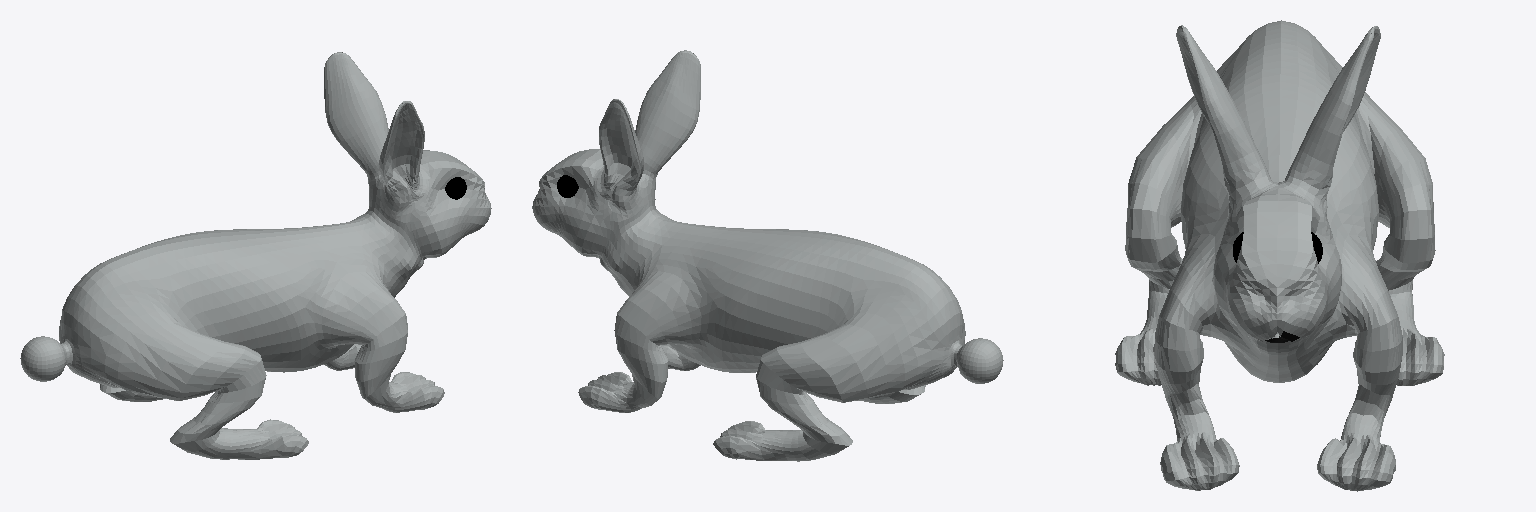
URDF robot description (object):
<?xml version="1.0"?>
<robot name="object">
  <link name="base_link"> <!-- required name-->
    <inertial>
      <origin xyz="0 0 0" /> 
      <mass value="1.0" />
      <inertia  ixx="1.0" ixy="0.0"  ixz="0.0"  iyy="1.0"  iyz="0.0"  izz="100.0" />
    </inertial>
    <visual>
      <origin xyz="0 0 0"/>
      <geometry>
        <mesh filename="package://animals_description/meshes/rabbit1.dae"/>
      </geometry>
    </visual>
    <collision>
      <origin xyz="0 0 0"/>
      <geometry>
        <mesh filename="package://animals_description/meshes/rabbit1.dae"/>
      </geometry>
    </collision>
  </link>
</robot>

--- Render facts (derived) ---
Views: 3 orthographic renders of the robot side by side, from view 1: azimuth 30°, elevation 25°; view 2: azimuth 150°, elevation 25°; view 3: azimuth 270°, elevation 25°.
Robot: object — 1 links, 0 joints (none); root link base_link; default pose: every joint at zero.
Visible links, largest first — view 1: base_link; view 2: base_link; view 3: base_link.
Boxes of the visible links, x1,y1,x2,y2 form: base_link: [20, 52, 491, 459]; base_link: [532, 50, 1003, 461]; base_link: [1115, 20, 1444, 491].
Size in the robot's own frame: 0.5256 by 0.2273 by 0.3394 metres.
Meshes: 1 distinct files referenced, 1 mesh visuals loaded (1 Collada DAE).